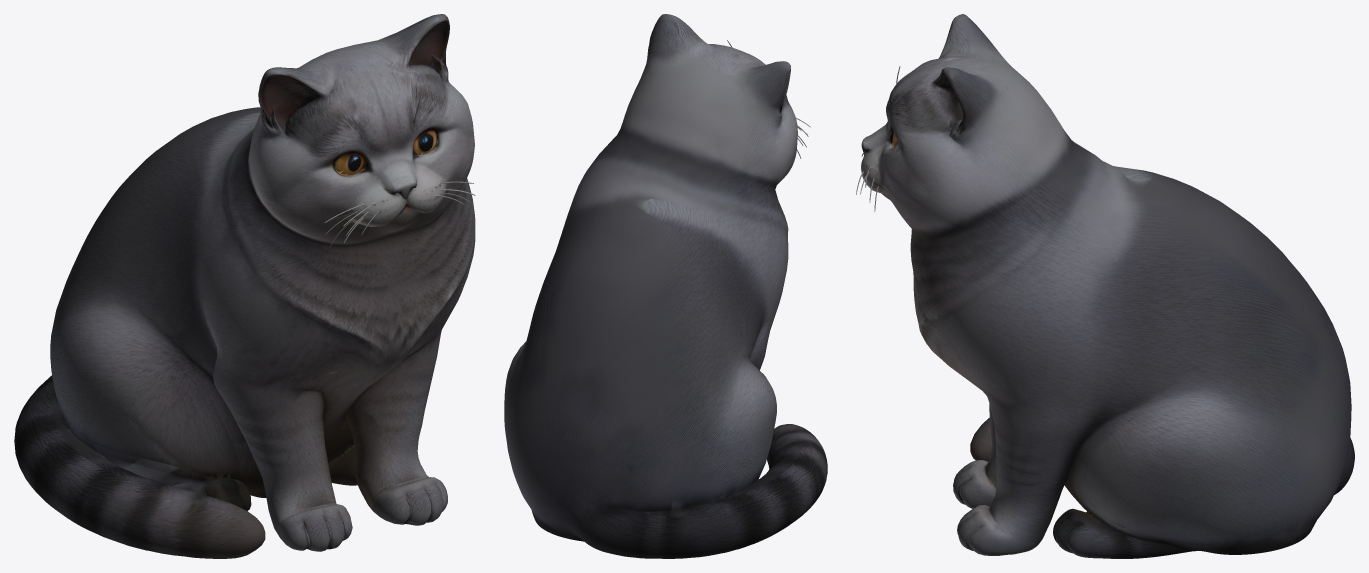
Rendered from blue cat.glb.
The picture shows the model from 3 angles, left to right: view 1: azimuth 30°, elevation 25°; view 2: azimuth 150°, elevation 25°; view 3: azimuth 270°, elevation 25°; orthographic projection. The views are drawn at different scales.
Parts seen in each view (by area): view 1: Object_4; view 2: Object_4; view 3: Object_4.
Boxes of the visible parts, x1,y1,x2,y2 form: Object_4: [14, 14, 475, 558]; Object_4: [504, 14, 827, 558]; Object_4: [856, 14, 1354, 558].
Bounding box in the file's own units: 0.6476 × 0.9132 × 0.855.
Materials: 1 (1 with a texture image).
